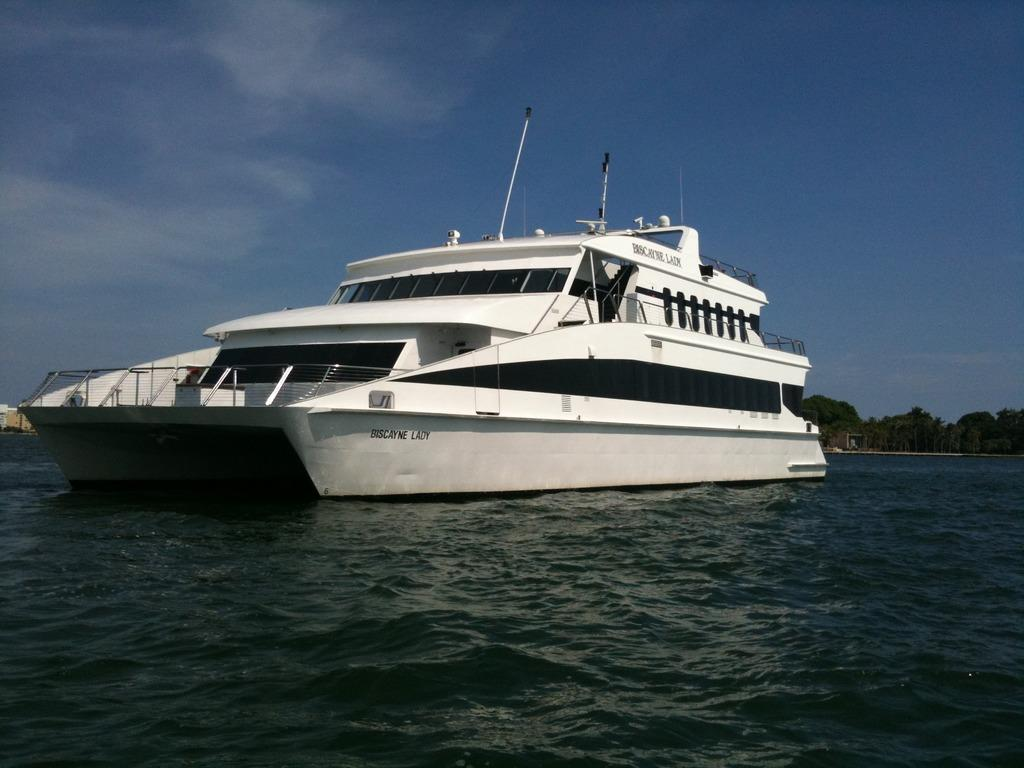PassengerShip: (21, 210, 837, 502)
